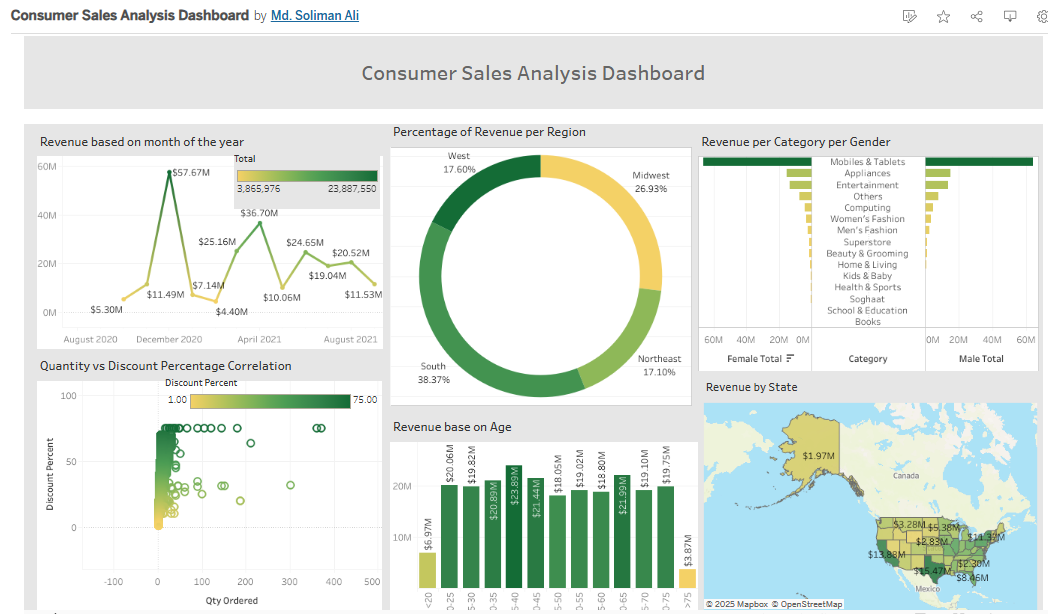

The dashboard page shown, as its layout file describes it:
{"tool":"tableau","page":{"name":"Dashboard 2","canvas":[1366,768],"ordinal":0},"visuals":[{"type":"dashboard-object","box":[8,8,1350,52]},{"type":"worksheet","title":"Percentage of Revenue per Region","mark":"Pie","rows":["Calculation_188588246279364608","Calculation_188588246279364608"],"box":[488,112,402,384]},{"type":"worksheet","title":"Revenue based on month of the year","mark":"Automatic","rows":["total"],"cols":["order_date"],"box":[17,125,461,295]},{"type":"worksheet","title":"Revenue per Category per Gender","mark":"Automatic","rows":["category"],"cols":["Calculation_188588246280998913","Calculation_188588246279364608","Female Total (copy)_188588246281142274"],"box":[899,125,454,324]},{"type":"legend","title":"Revenue base on Age","param":"[federated.1xrwn6o132jq79125s12w0z9vpre].[sum:total:qk]","box":[280,157,195,76]},{"type":"worksheet","title":"Quantity vs Discount Percentage Correlation","mark":"Automatic","rows":["Discount_Percent"],"cols":["qty_ordered"],"box":[17,424,460,346]},{"type":"worksheet","title":"Revenue by State","mark":"Automatic","box":[905,454,447,315]},{"type":"legend","title":"Quantity vs Discount Percentage Correlation","param":"[federated.1xrwn6o132jq79125s12w0z9vpre].[none:Discount_Percent:qk]","box":[188,456,288,66]}]}

Visuals, with their boxes on the page's 1366x768 design canvas (x1, y1, x2, y2). These are canvas units, not pixel positions in the 1048x614 screenshot, which may show the page scaled, cropped or inside an application window:
dashboard-object: x1=8, y1=8, x2=1358, y2=60
"Percentage of Revenue per Region" worksheet (Pie marks): x1=488, y1=112, x2=890, y2=496
"Revenue based on month of the year" worksheet: x1=17, y1=125, x2=478, y2=420
"Revenue per Category per Gender" worksheet: x1=899, y1=125, x2=1353, y2=449
"Revenue base on Age" legend: x1=280, y1=157, x2=475, y2=233
"Quantity vs Discount Percentage Correlation" worksheet: x1=17, y1=424, x2=477, y2=770
"Revenue by State" worksheet: x1=905, y1=454, x2=1352, y2=769
"Quantity vs Discount Percentage Correlation" legend: x1=188, y1=456, x2=476, y2=522
